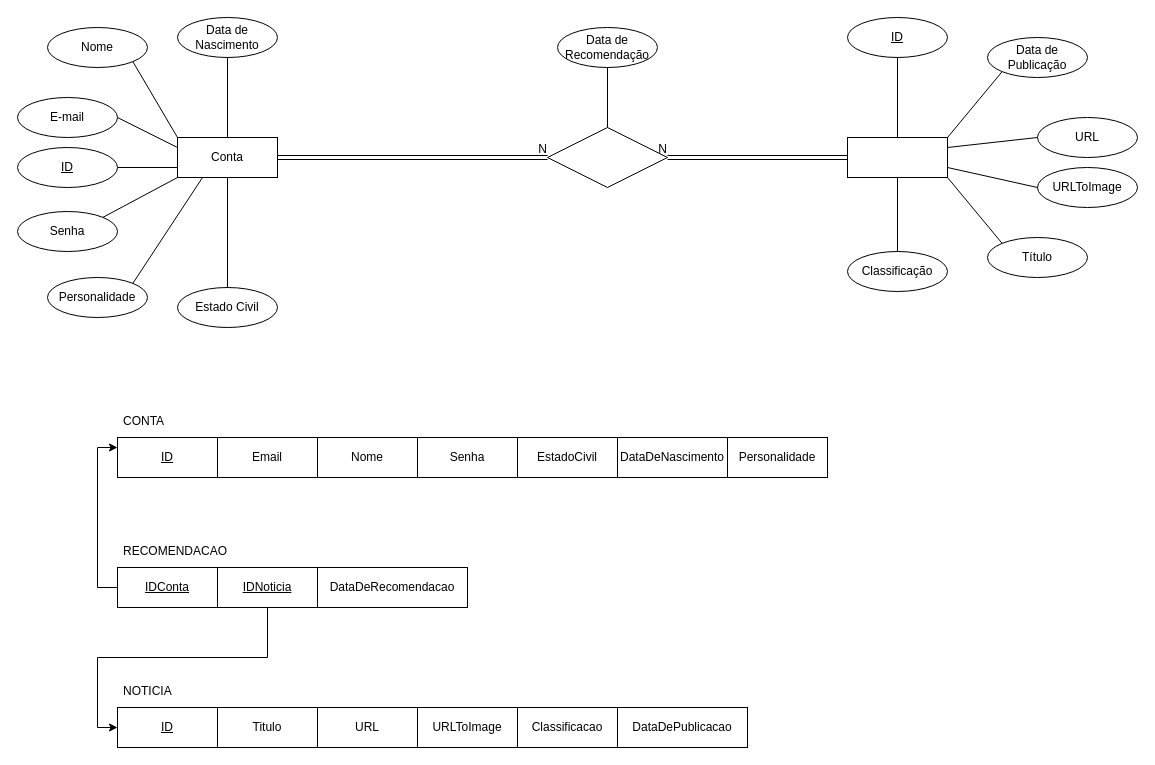
The diagram is 1155 pixels wide and 765 high, and some of its shapes have lost their labels. Each missing label, with the centre of its shape:
"filtra" goes at [607,157].
"Notícia" goes at [897,157].
